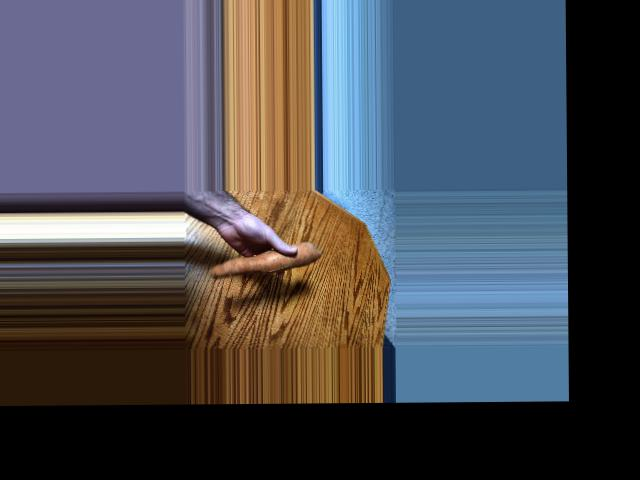sweet_potato: (210, 251, 319, 273)
